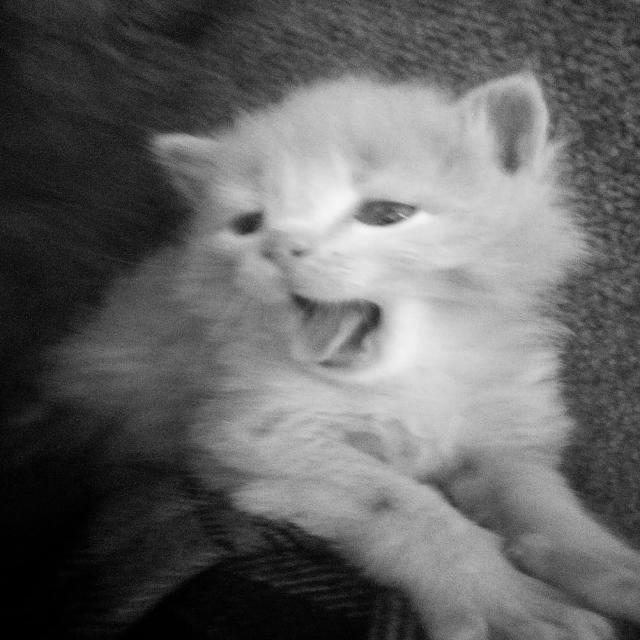Cat: (7, 67, 638, 638)
